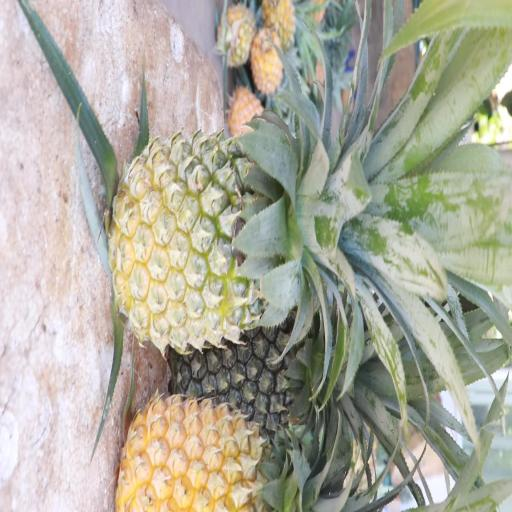------------------------------: (111, 131, 305, 345)
Pineapple - v8 v1: (118, 394, 306, 512), (216, 0, 257, 67), (250, 16, 283, 92)
